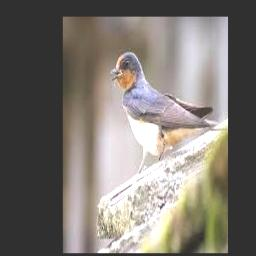Swallow: (110, 53, 217, 174)
